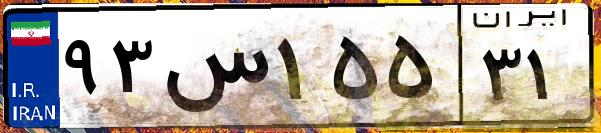1: (270, 28, 330, 110), (525, 38, 570, 115)
3: (475, 38, 525, 113), (110, 28, 158, 98)
5: (385, 28, 445, 110), (330, 28, 385, 110)
9: (57, 26, 110, 100)
س: (158, 20, 270, 120)
